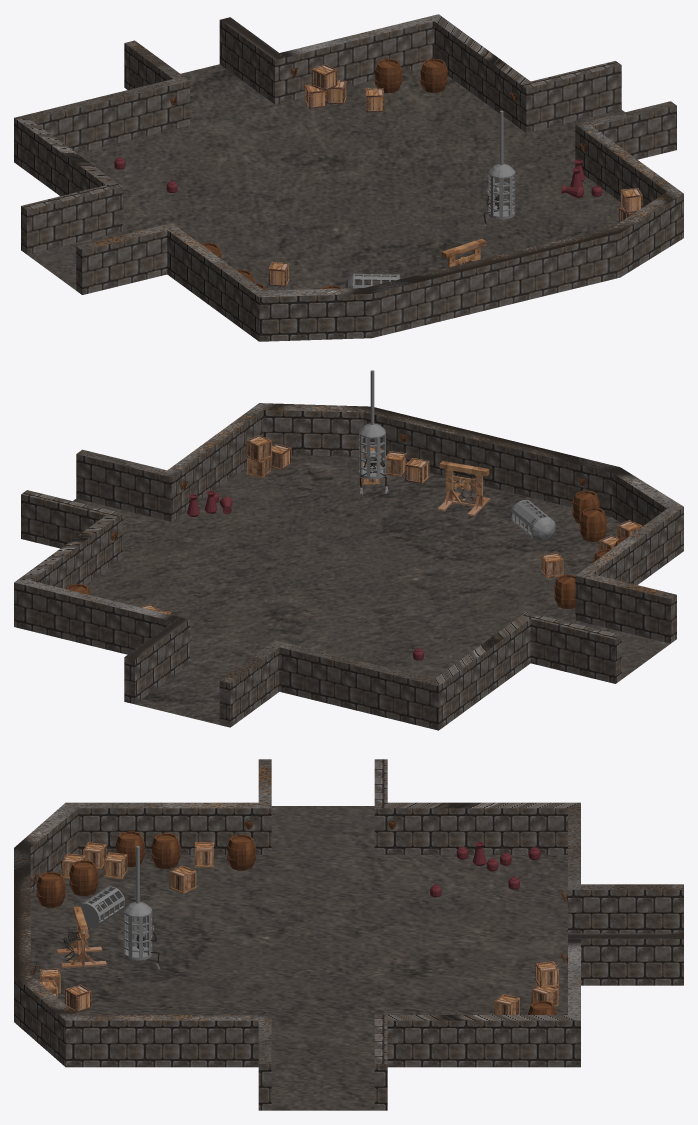
File: room_T.glb
3 views of the same model, one above another, from view 1: azimuth 30°, elevation 25°; view 2: azimuth 150°, elevation 25°; view 3: azimuth 270°, elevation 25° (orthographic). The views are drawn at different scales.
Parts seen in each view (by area): view 1: Plane.001, Plane.003, Cylinder.015, beczka.005, beczka.004, Cube.015, Cube.014, Cylinder.016, Cube.011, Cube.017; view 2: Plane.003, Plane.001, Cylinder.015, Cube.015, Cylinder.016, beczka.003, beczka.007, Cube.011, Cube.002, beczka.006; view 3: Plane.003, Plane.001, Cylinder.015, Cube.015, Cylinder.016, beczka.006, beczka.003, beczka.007, beczka.001, beczka.002, Cube.017, Cube.006 (+2 smaller).
Boxes of the visible parts, x1=… form: Plane.001: x1=14, y1=14, x2=683, y2=341; Plane.003: x1=27, y1=64, x2=624, y2=290; Cylinder.015: x1=481, y1=110, x2=515, y2=229; beczka.005: x1=420, y1=58, x2=447, y2=92; beczka.004: x1=374, y1=59, x2=402, y2=93; Cube.015: x1=442, y1=238, x2=486, y2=267; Cube.014: x1=311, y1=64, x2=337, y2=91; Cylinder.016: x1=345, y1=273, x2=400, y2=288; Cube.011: x1=620, y1=188, x2=642, y2=213; Cube.017: x1=268, y1=261, x2=289, y2=286; Plane.003: x1=73, y1=455, x2=670, y2=724; Plane.001: x1=14, y1=403, x2=683, y2=730; Cylinder.015: x1=359, y1=370, x2=388, y2=494; Cube.015: x1=437, y1=461, x2=490, y2=516; Cylinder.016: x1=510, y1=500, x2=555, y2=540; beczka.003: x1=579, y1=507, x2=606, y2=541; beczka.007: x1=554, y1=574, x2=575, y2=608; Cube.011: x1=246, y1=435, x2=271, y2=461; Cube.002: x1=405, y1=458, x2=429, y2=483; beczka.006: x1=572, y1=490, x2=599, y2=523; Plane.003: x1=30, y1=806, x2=567, y2=1110; Plane.001: x1=14, y1=759, x2=683, y2=1110; Cylinder.015: x1=123, y1=846, x2=159, y2=969; Cube.015: x1=56, y1=906, x2=106, y2=968; Cylinder.016: x1=78, y1=886, x2=124, y2=928; beczka.006: x1=36, y1=872, x2=65, y2=907; beczka.003: x1=69, y1=860, x2=98, y2=895; beczka.007: x1=227, y1=834, x2=256, y2=870; beczka.001: x1=151, y1=833, x2=180, y2=868; beczka.002: x1=115, y1=831, x2=145, y2=866; Cube.017: x1=169, y1=865, x2=196, y2=893; Cube.006: x1=65, y1=984, x2=91, y2=1012.
Bounding box in the file's own units: 28 × 6.33 × 26.
Materials: 6 (4 with a texture image).
